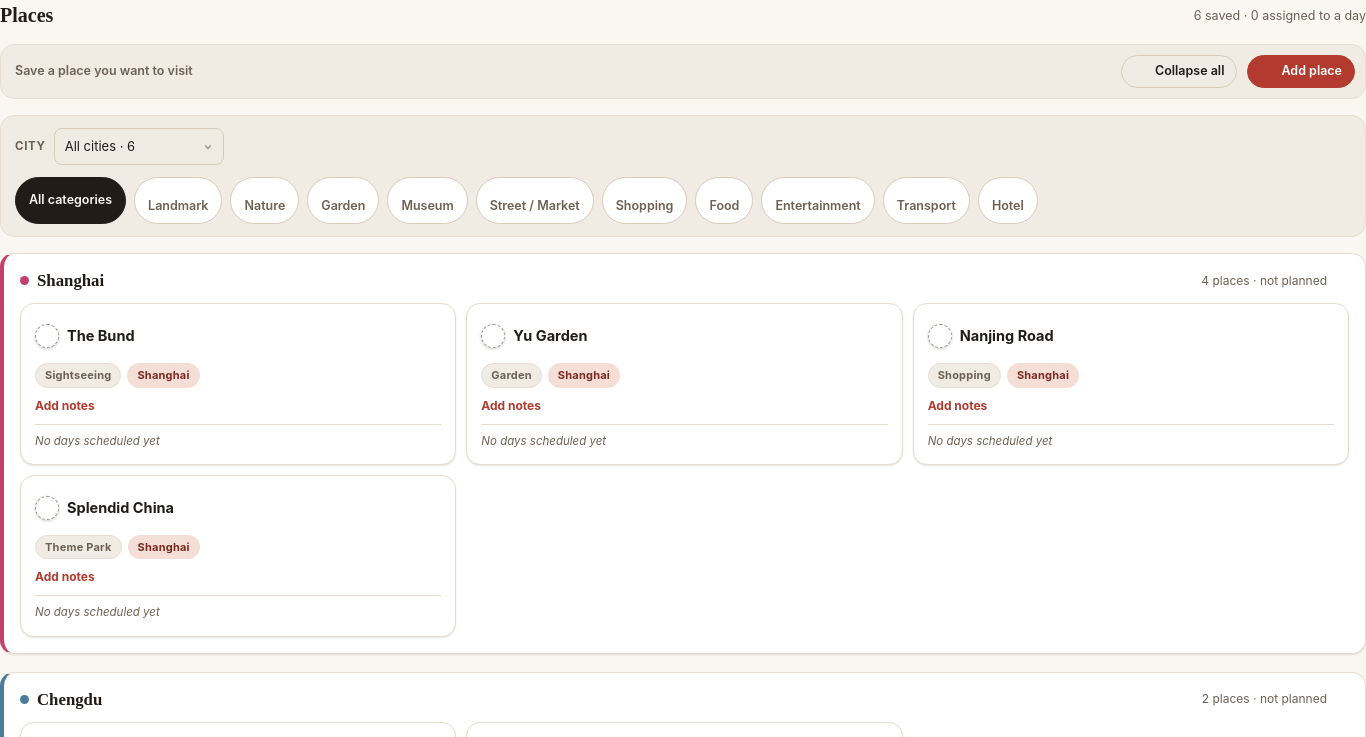
it: PlacesPanel — filters › the "Entertainment" category chip matches a legacy "Theme Park" place
The width and height of the screenshot is (1366, 737).
Click the button "Entertainment". click: (818, 201)
box: top-left (761, 177), bottom-right (875, 224)
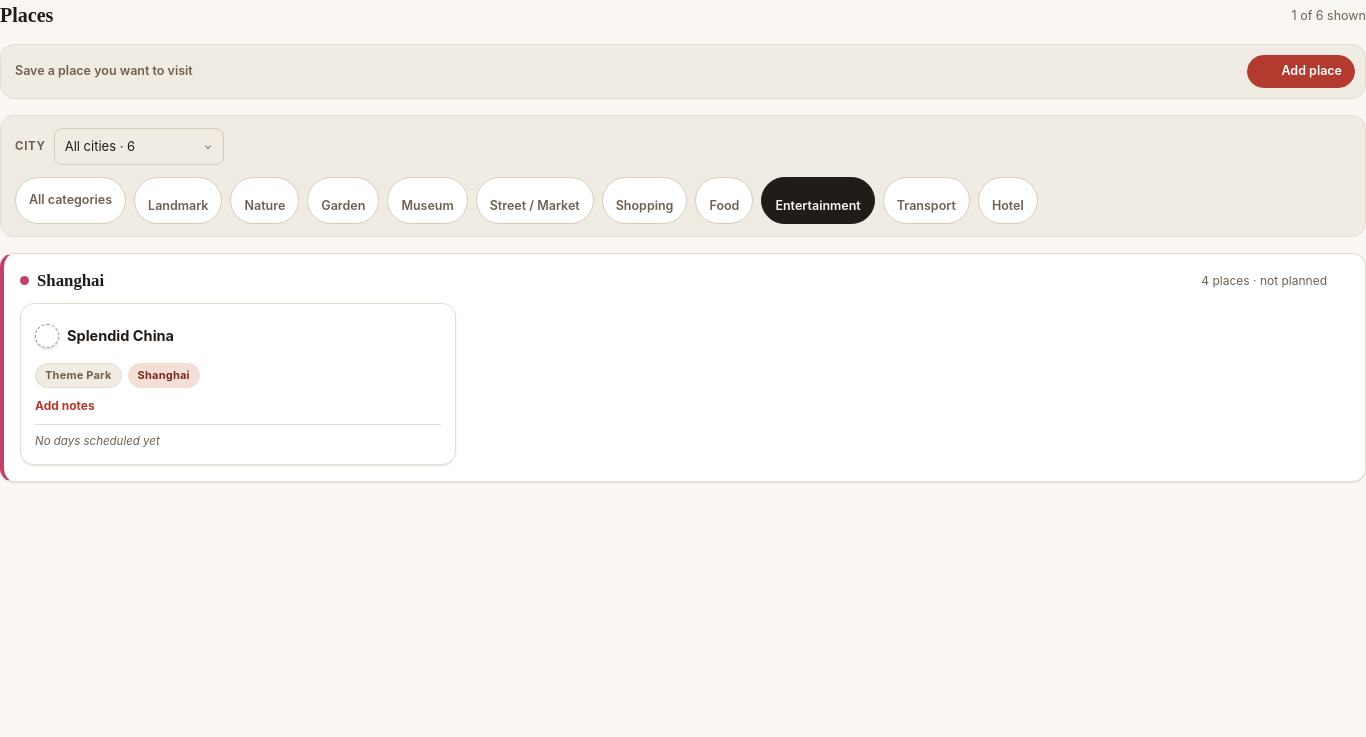
Check: the text "Splendid China" is shown, box top-left (67, 327), bottom-right (174, 346)
Check: the text "The Bund" is gone
